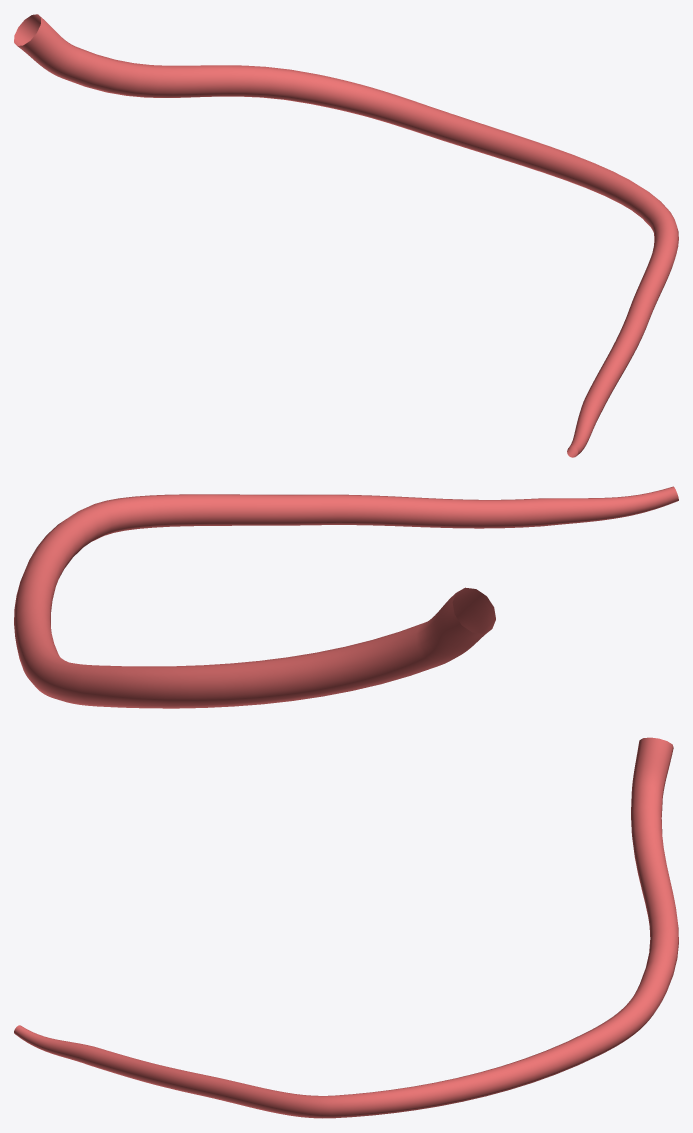
Rendered from Inferior_medial_genicular_artery.r_BezierCurve.248.glb.
3 renders of one model, top to bottom at view 1: azimuth 30°, elevation 25°; view 2: azimuth 150°, elevation 25°; view 3: azimuth 270°, elevation 25°, orthographic. The views are drawn at different scales.
Parts seen in each view (by area): view 1: Inferior_medial_genicular_artery.r_BezierCurve.248; view 2: Inferior_medial_genicular_artery.r_BezierCurve.248; view 3: Inferior_medial_genicular_artery.r_BezierCurve.248.
Boxes of the visible parts, x1,y1,x2,y2 form: Inferior_medial_genicular_artery.r_BezierCurve.248: (14, 14, 678, 457); Inferior_medial_genicular_artery.r_BezierCurve.248: (14, 486, 678, 708); Inferior_medial_genicular_artery.r_BezierCurve.248: (14, 737, 678, 1118).
Bounding box in the file's own units: 0.0577 × 0.0274 × 0.0753.
